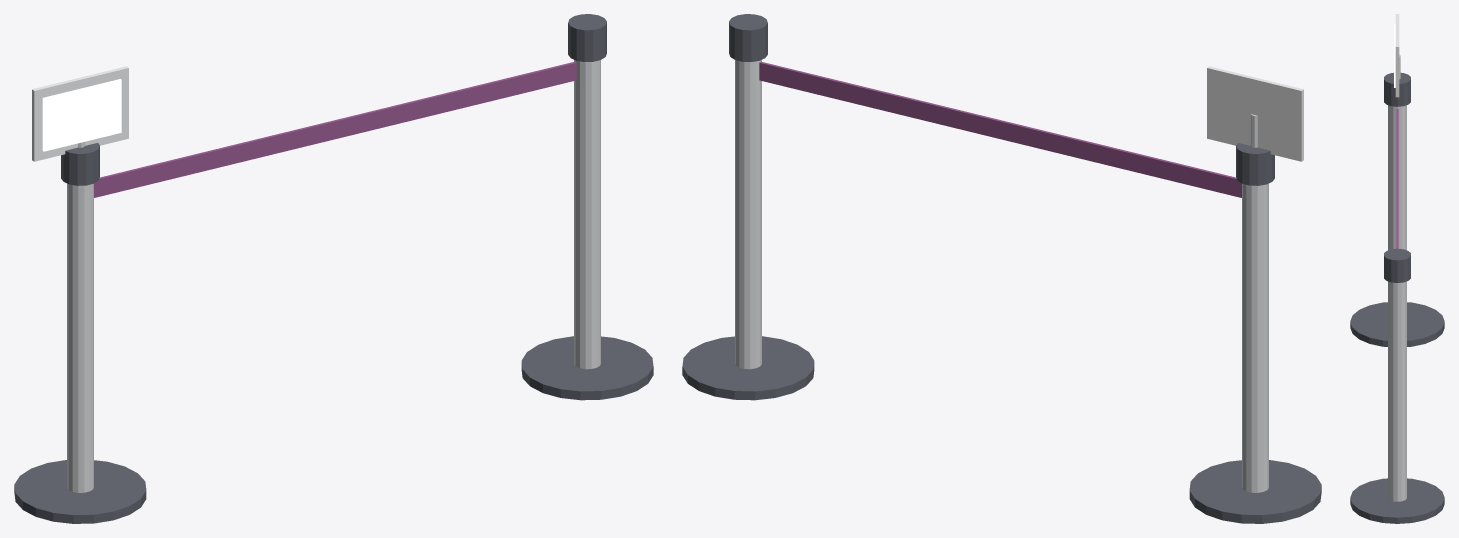
Rendered from pharmacy-and-high-street-chemist-queue-rail-4a20ac58__37518.glb.
3 views of the same model, side by side, from view 1: azimuth 30°, elevation 25°; view 2: azimuth 150°, elevation 25°; view 3: azimuth 270°, elevation 25° (orthographic). The views are drawn at different scales.
Visible parts, largest first — view 1: queue-rail; view 2: queue-rail; view 3: queue-rail.
Part boxes in pixels (x1,y1,x2,y2): queue-rail: (14, 14, 653, 523); queue-rail: (682, 14, 1321, 523); queue-rail: (1350, 14, 1444, 523).
Bounding box in the file's own units: 1.84 × 1.18 × 0.3401.
